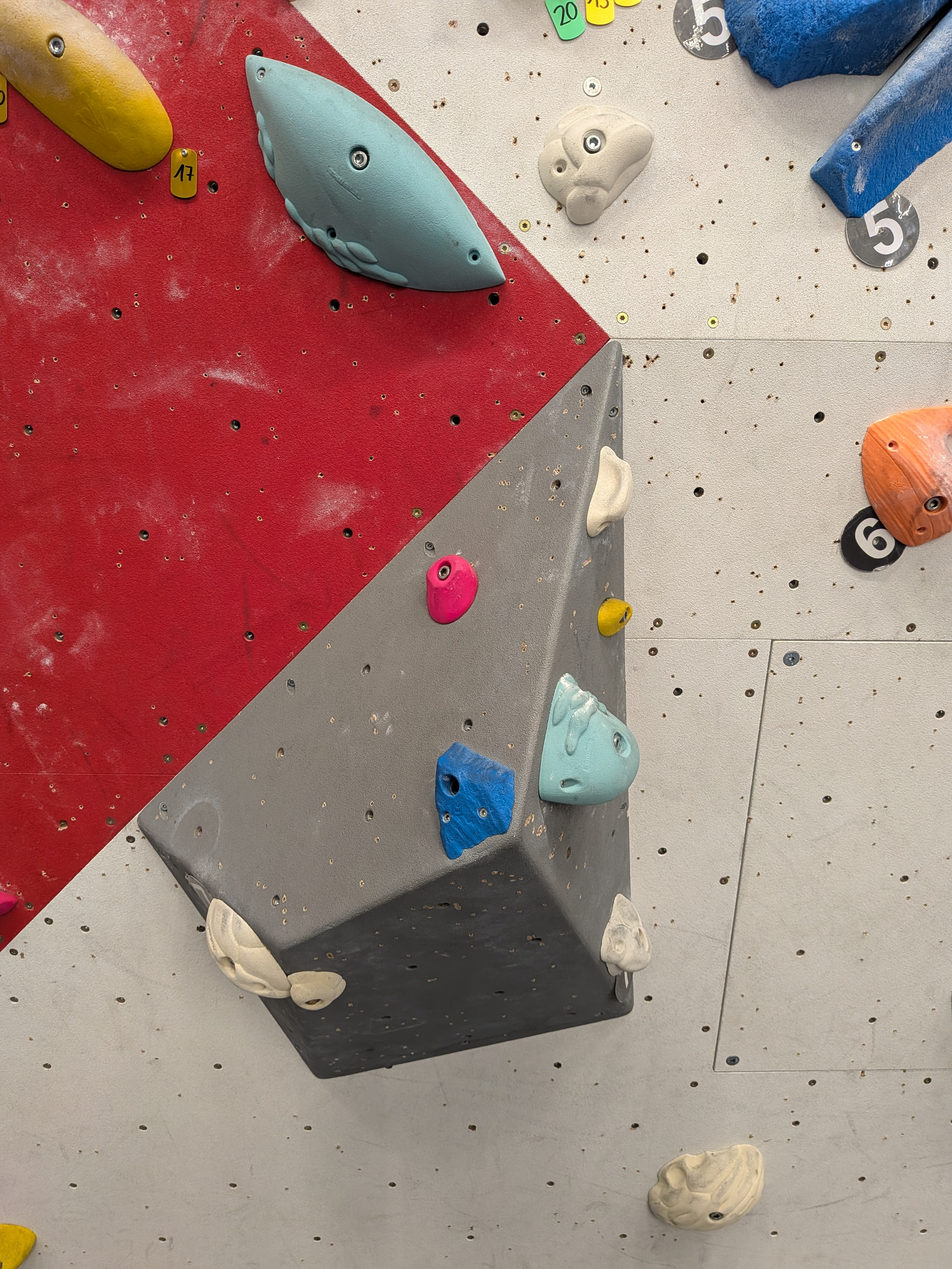hold: (246, 55, 505, 292), (811, 10, 952, 218), (0, 0, 170, 170), (725, 0, 945, 86), (539, 106, 656, 224), (539, 675, 640, 804), (861, 405, 952, 547), (648, 1144, 763, 1230), (437, 743, 515, 859), (206, 898, 291, 998), (588, 447, 633, 537), (601, 894, 650, 974), (427, 555, 478, 623), (288, 971, 345, 1009), (0, 1223, 33, 1269), (600, 599, 631, 636), (0, 889, 12, 913)
volume: (133, 338, 633, 1081)
